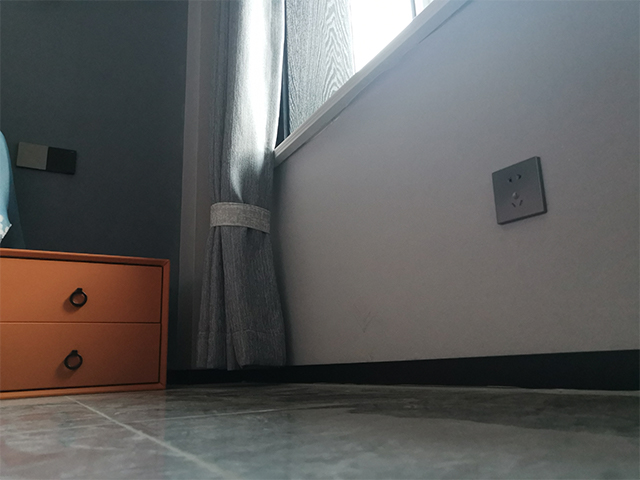cabinet: (1, 246, 172, 402)
curtain: (171, 1, 292, 374)
